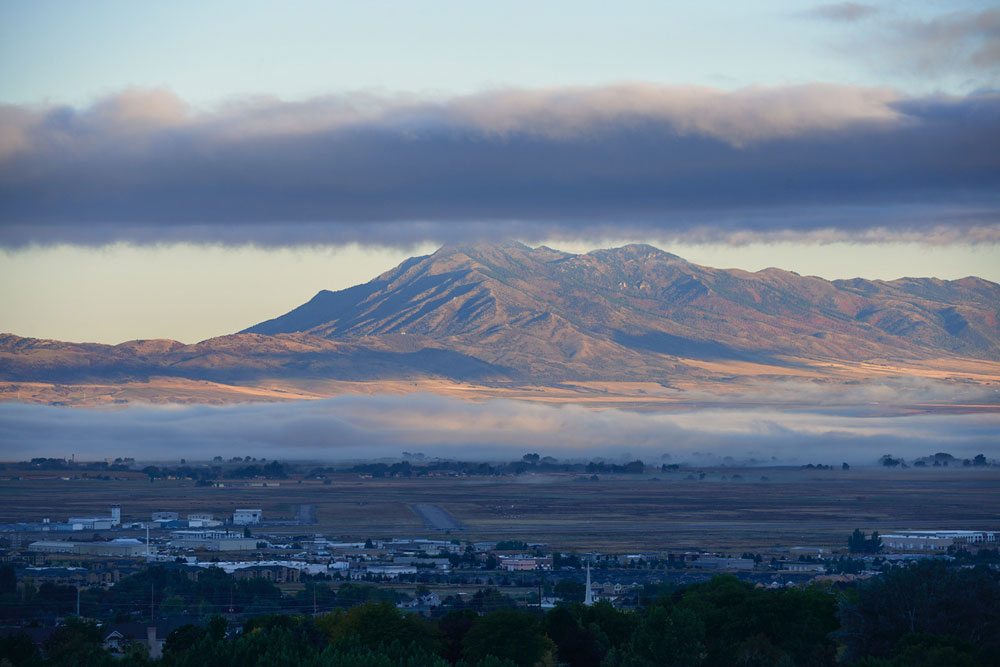Stratus: (3, 65, 997, 243), (5, 384, 1000, 466)
